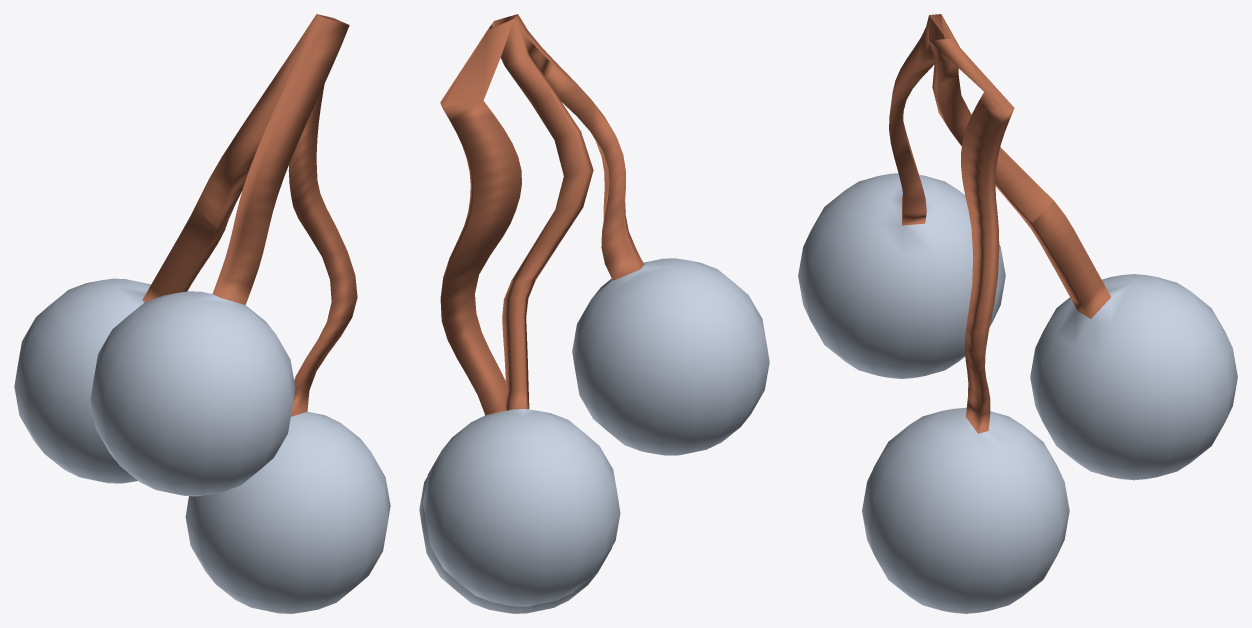
Rendered from Boleadoras.fbx.
The picture shows the model from 3 angles, left to right: view 1: azimuth 30°, elevation 25°; view 2: azimuth 150°, elevation 25°; view 3: azimuth 270°, elevation 25°; orthographic projection. The views are drawn at different scales.
Parts seen in each view (by area): view 1: Sphere.001; view 2: Sphere.001; view 3: Sphere.001.
Part boxes in pixels (x1,y1,x2,y2): Sphere.001: (14,14,390,613); Sphere.001: (419,14,769,613); Sphere.001: (798,14,1237,613).
Size of the model in its own units: 15 by 27.92 by 18.58.
1 material, 1 textured.
